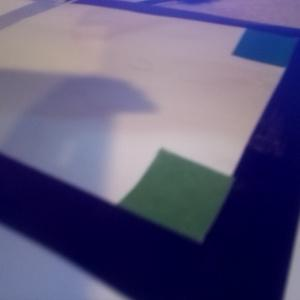bottom_left: (232, 29, 300, 68)
top_left: (116, 148, 236, 290)
